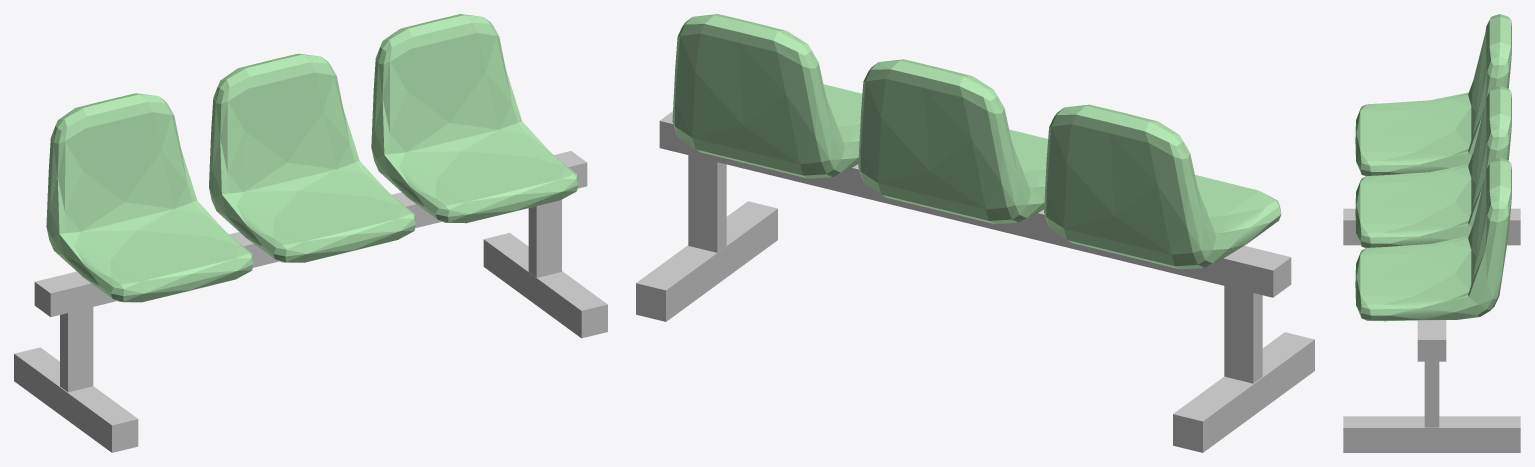
Rendered from MD_benti_20251118.fbx.
The picture shows the model from 3 angles, left to right: view 1: azimuth 30°, elevation 25°; view 2: azimuth 150°, elevation 25°; view 3: azimuth 270°, elevation 25°; orthographic projection. The views are drawn at different scales.
Parts seen in each view (by area): view 1: be:bentiUV; view 2: be:bentiUV; view 3: be:bentiUV.
Part boxes in pixels (x1,y1,x2,y2): be:bentiUV: (14, 14, 607, 452); be:bentiUV: (636, 14, 1314, 452); be:bentiUV: (1343, 14, 1520, 452).
Size of the model in its own units: 446 by 213 by 141.
